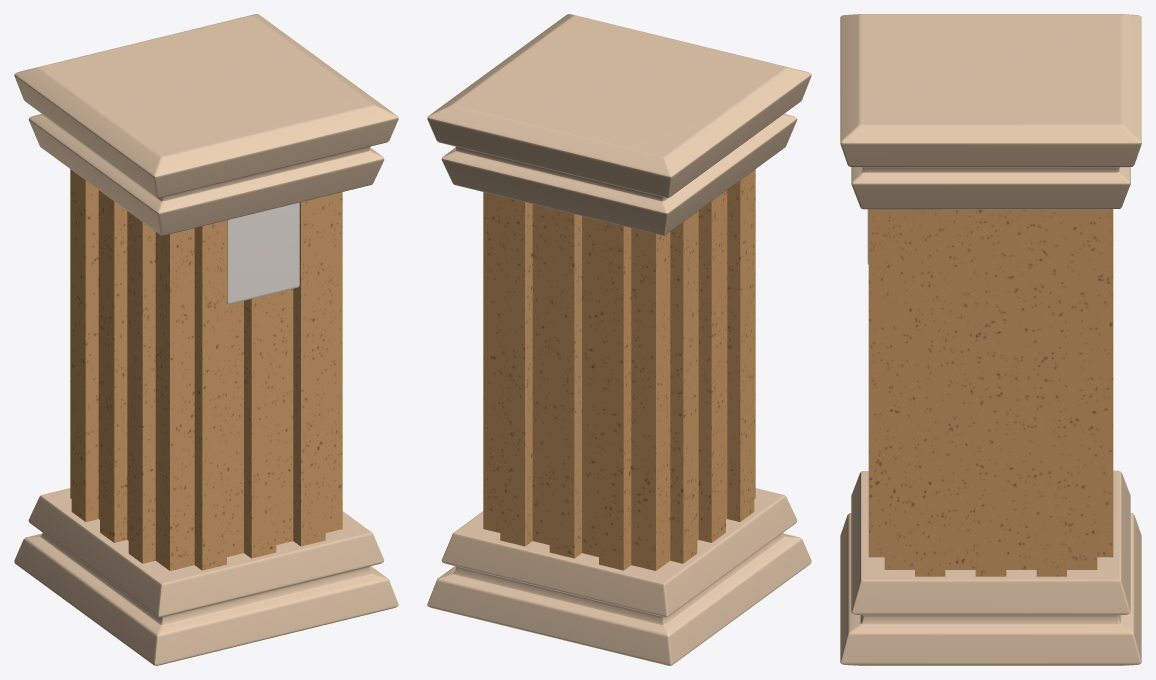
The model's file is boxpillar.fbx.
3 views of the same model, side by side, from view 1: azimuth 30°, elevation 25°; view 2: azimuth 150°, elevation 25°; view 3: azimuth 270°, elevation 25° (orthographic). The views are drawn at different scales.
Visible parts, largest first — view 1: boxpillars; view 2: boxpillars; view 3: boxpillars.
Part boxes in pixels (x1,y1,x2,y2): boxpillars: [14, 14, 398, 665]; boxpillars: [427, 14, 811, 665]; boxpillars: [840, 14, 1141, 665].
Size of the model in its own units: 2.82 by 5.58 by 2.82.
Materials: 2 (2 with a texture image).
